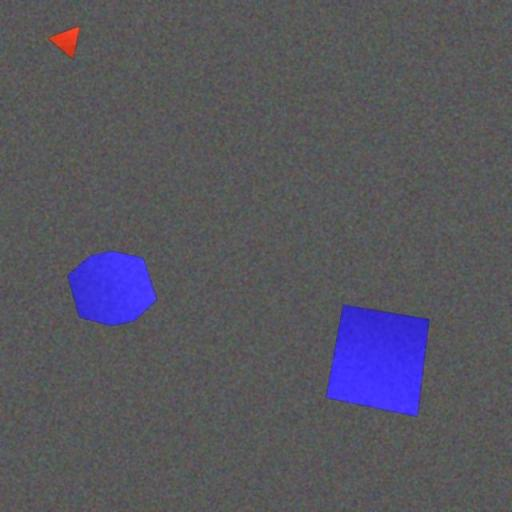BLUE_SQUARE: (325, 304, 430, 418)
